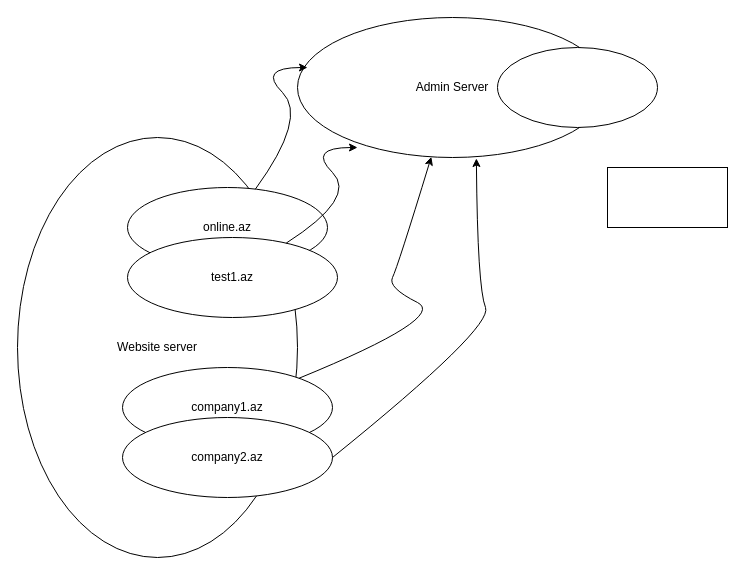
The diagram is 745 pixels wide and 575 high, and some of its shapes have lost their labels. Here are the shapes that lost their labels. From the top down, the centre of each, then its label:
(x=577, y=87): Admin Panel
(x=667, y=197): Unit tests Integration tests
